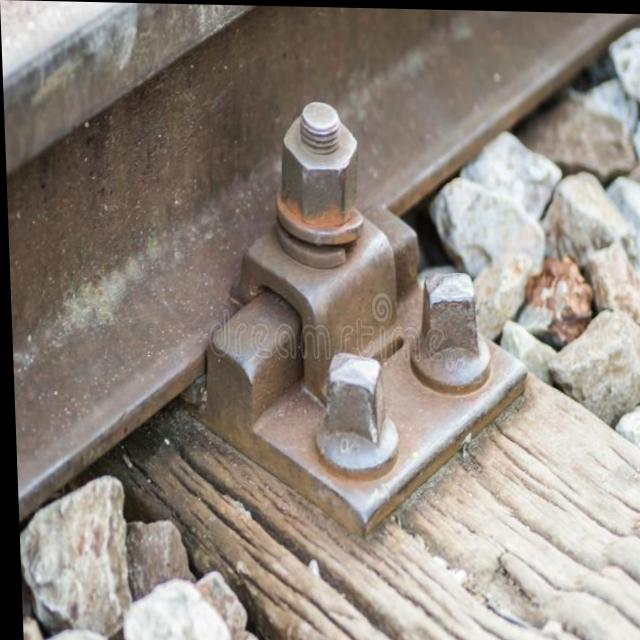Rusty bolt: (278, 102, 362, 237)
